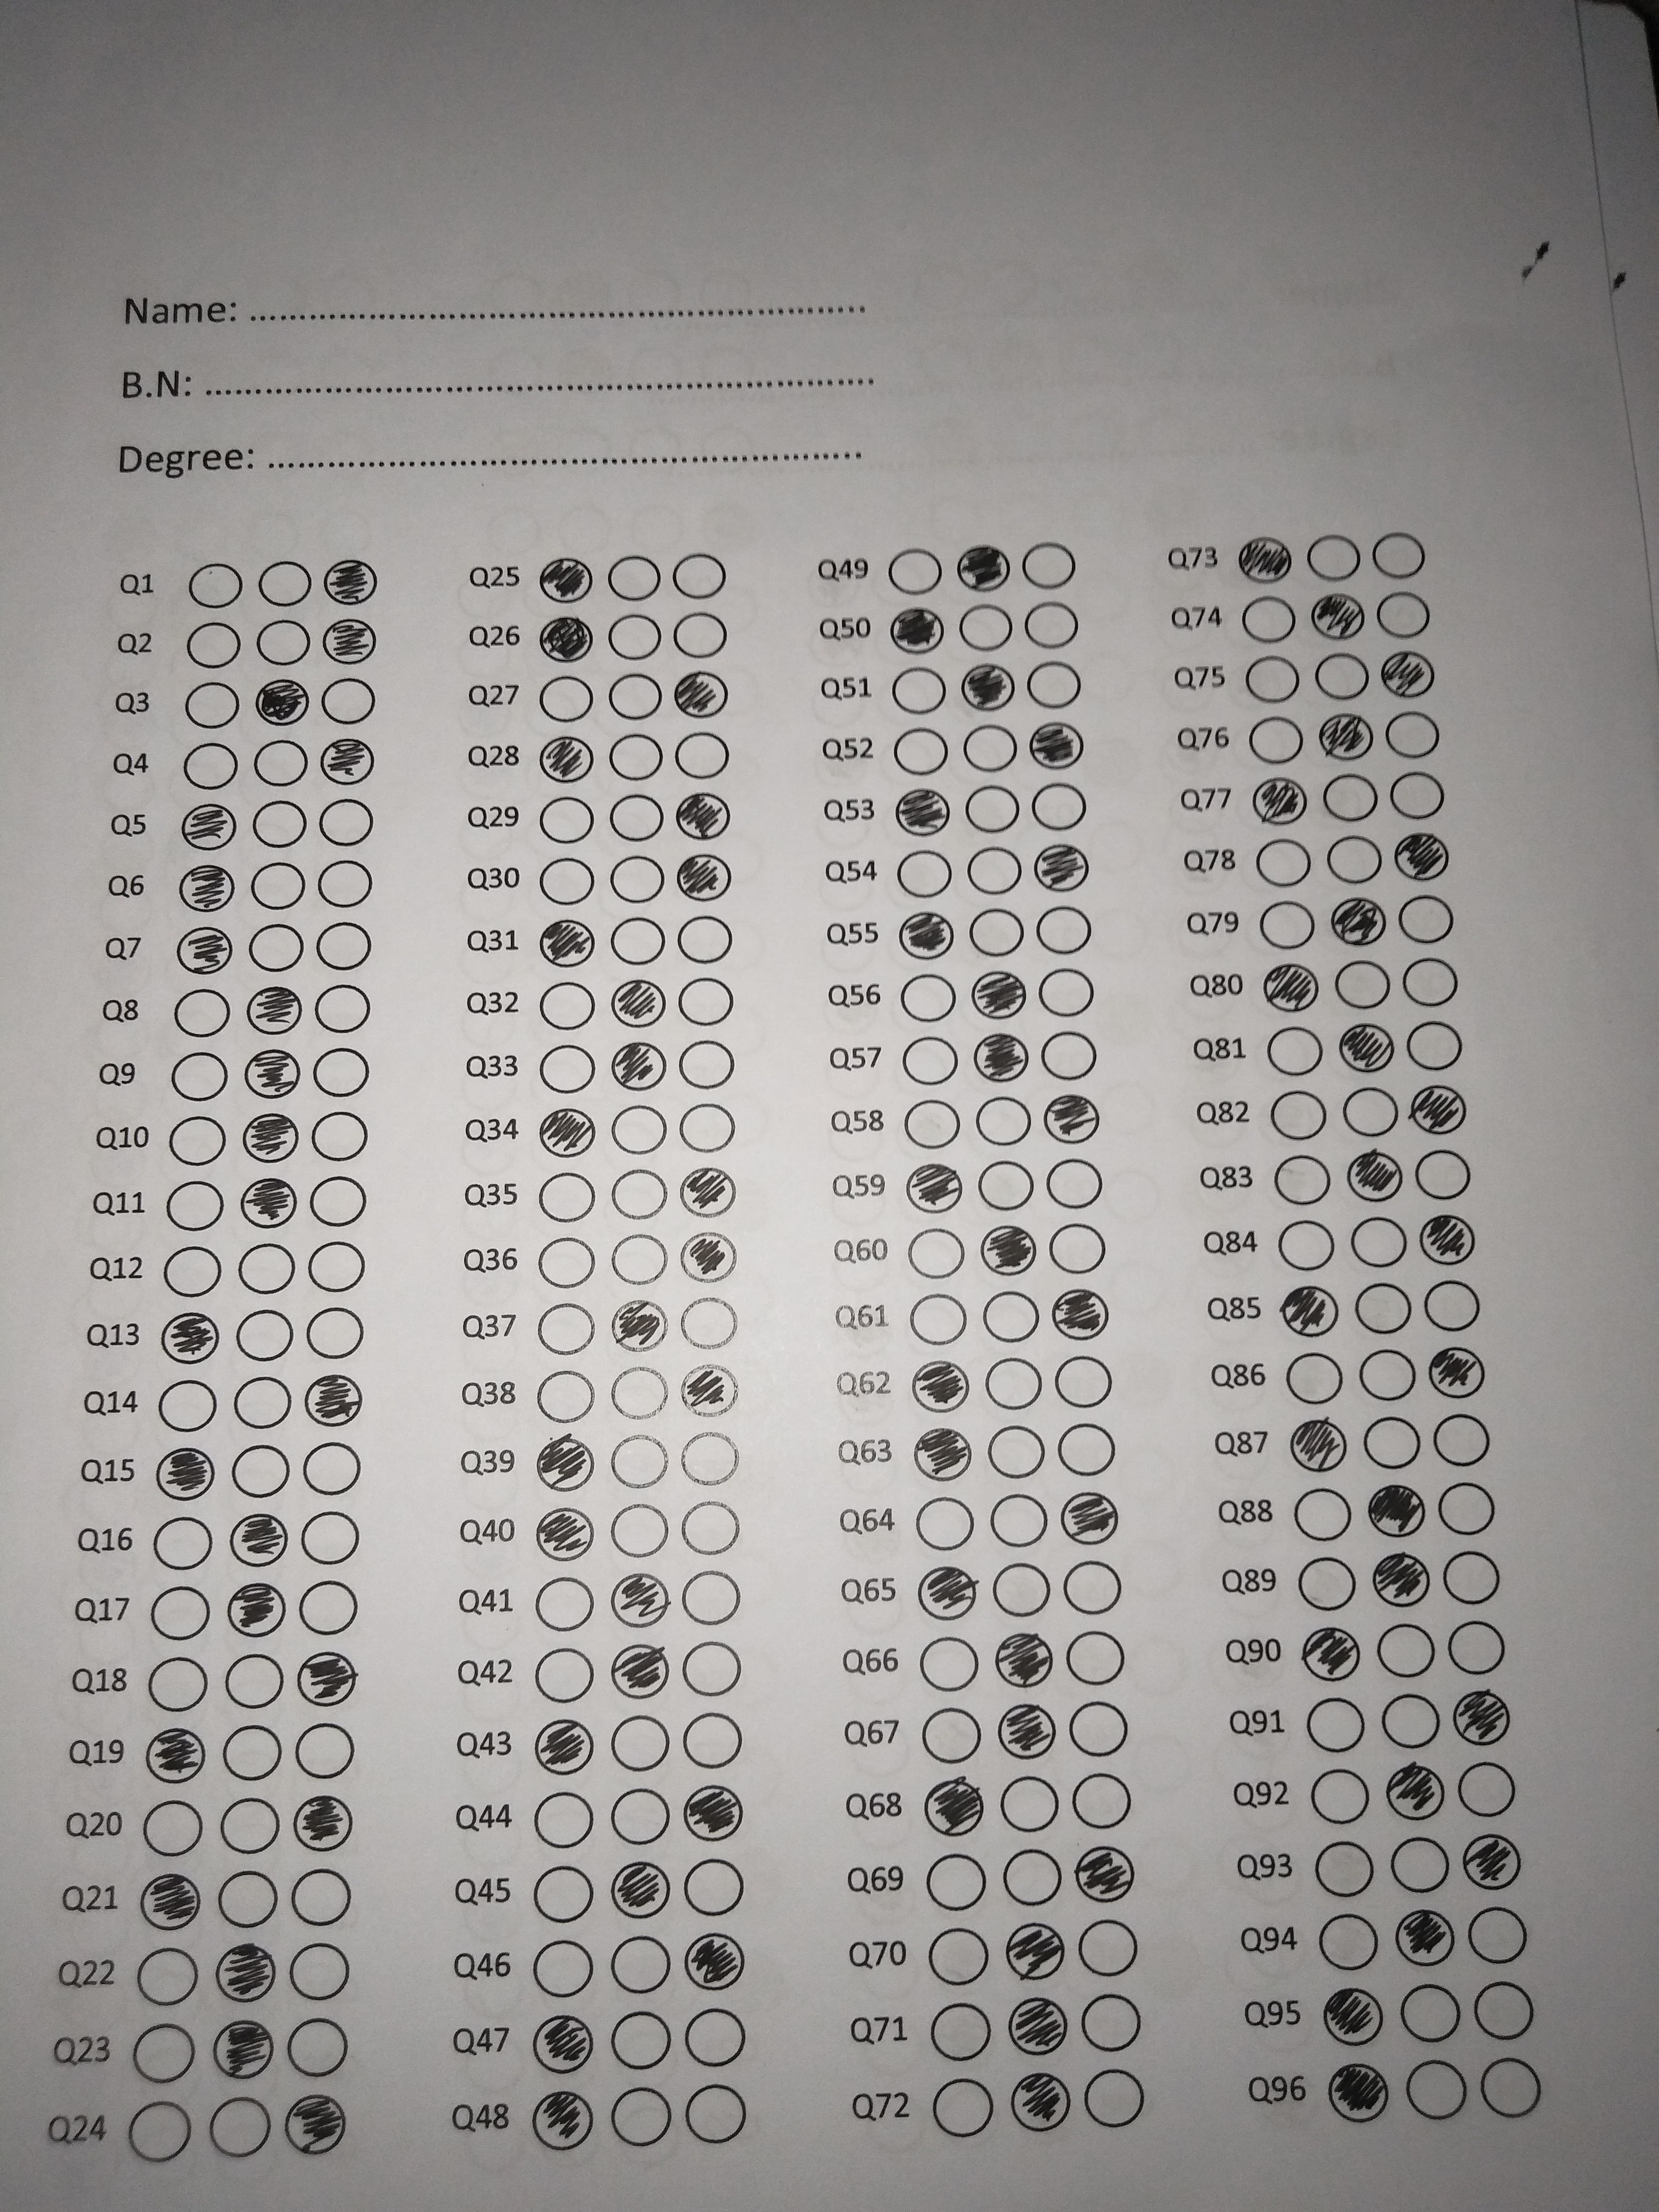not-c: (206, 2092, 279, 2174), (120, 2017, 200, 2088), (120, 2095, 200, 2165), (1478, 2050, 1554, 2121), (922, 2000, 995, 2071), (1080, 2066, 1154, 2137), (282, 2012, 354, 2083), (1401, 2054, 1473, 2125), (148, 1372, 227, 1437), (286, 1937, 357, 2006), (1312, 1911, 1385, 1979), (925, 2076, 997, 2144), (305, 1106, 378, 1172), (1392, 1982, 1467, 2047), (922, 1925, 992, 1993), (1467, 1977, 1537, 2045), (1445, 1613, 1513, 1683), (136, 1794, 209, 1858), (526, 1789, 599, 1853), (289, 1862, 357, 1930), (922, 1850, 990, 1918), (132, 1940, 199, 2010), (214, 1721, 286, 1785), (526, 1641, 598, 1705), (906, 1494, 979, 1557), (146, 1580, 214, 1646), (608, 1932, 676, 1998), (145, 1651, 214, 1716), (610, 2081, 674, 2151), (1077, 1993, 1147, 2057), (301, 1237, 376, 1296), (1267, 1216, 1342, 1275), (293, 1716, 359, 1782), (606, 1498, 673, 1564), (985, 1486, 1051, 1552), (917, 1632, 983, 1698), (293, 1576, 361, 1641), (213, 1869, 281, 1933), (676, 1496, 746, 1559), (1053, 1416, 1122, 1479), (993, 1771, 1063, 1834), (1295, 1552, 1364, 1615), (296, 1507, 368, 1568), (1305, 1838, 1377, 1898), (218, 1792, 284, 1857), (532, 1362, 596, 1428), (979, 1352, 1046, 1416), (1077, 1916, 1141, 1982), (1354, 1343, 1420, 1407), (530, 1937, 598, 2000), (605, 1710, 673, 1773), (986, 1559, 1054, 1622), (1060, 1559, 1127, 1622), (1377, 1691, 1445, 1754), (160, 1176, 230, 1237), (1464, 1904, 1535, 1963), (223, 1649, 288, 1714), (683, 2005, 748, 2069), (683, 2081, 749, 2144), (610, 2008, 673, 2074), (1072, 1770, 1138, 1832), (1000, 1844, 1063, 1911), (1453, 1757, 1520, 1820), (1042, 1219, 1110, 1280), (1302, 1693, 1370, 1754), (1439, 1548, 1507, 1609), (678, 1566, 748, 1625), (1016, 535, 1086, 594), (882, 723, 953, 780), (1279, 1350, 1351, 1407), (610, 1428, 673, 1493), (1361, 1409, 1424, 1474), (533, 1040, 599, 1101), (532, 972, 598, 1033), (1385, 1834, 1452, 1895), (678, 1858, 746, 1918), (894, 968, 962, 1028), (1063, 1627, 1131, 1686), (917, 1707, 985, 1766), (1431, 1411, 1499, 1470), (1344, 1212, 1412, 1271), (1251, 894, 1319, 953), (882, 660, 951, 718), (1420, 1278, 1490, 1336), (1236, 651, 1305, 709), (150, 1245, 223, 1299), (1234, 712, 1307, 766), (532, 1571, 594, 1634), (228, 1440, 293, 1501), (530, 1862, 594, 1923), (606, 1362, 671, 1423), (533, 1296, 598, 1357), (1033, 965, 1098, 1026), (234, 1306, 300, 1366), (300, 1439, 366, 1498), (896, 1097, 962, 1157), (1291, 1487, 1358, 1547), (1269, 1150, 1335, 1209), (167, 982, 235, 1040), (305, 1176, 373, 1233), (610, 1785, 673, 1846), (681, 1709, 742, 1771), (958, 714, 1021, 775), (1310, 1764, 1371, 1827), (1352, 1277, 1413, 1339), (681, 1639, 746, 1698), (882, 540, 946, 599), (906, 1291, 971, 1350), (979, 1287, 1044, 1346), (981, 1423, 1047, 1480), (532, 1233, 599, 1289), (1434, 1482, 1502, 1538), (1413, 1148, 1481, 1204), (606, 664, 667, 725), (1068, 1698, 1129, 1759), (1375, 1620, 1438, 1679), (181, 557, 246, 615), (166, 1111, 230, 1169), (681, 1428, 739, 1493), (606, 1103, 671, 1160), (1317, 768, 1382, 826), (1037, 1031, 1103, 1087), (680, 1292, 739, 1353), (537, 1165, 598, 1224), (674, 909, 735, 968), (1026, 777, 1087, 836), (974, 1157, 1035, 1216), (235, 1372, 293, 1435), (532, 671, 594, 728), (1023, 596, 1086, 653), (669, 726, 734, 782), (167, 1049, 234, 1103), (601, 914, 669, 967), (249, 920, 308, 979), (307, 1306, 368, 1364), (153, 1514, 214, 1571), (606, 787, 664, 848), (955, 599, 1016, 657), (1033, 902, 1094, 960), (906, 1224, 967, 1282), (1368, 524, 1429, 582), (310, 1045, 373, 1101), (1053, 1353, 1115, 1409), (1385, 766, 1448, 822), (232, 1240, 296, 1294), (606, 1230, 671, 1284), (899, 1035, 964, 1089), (176, 740, 242, 792), (957, 784, 1023, 836), (253, 552, 312, 610), (1044, 1155, 1103, 1212), (1324, 831, 1384, 888), (1344, 1082, 1405, 1137), (321, 676, 383, 730), (315, 920, 378, 974), (606, 1165, 669, 1219), (1267, 1089, 1330, 1143), (533, 857, 598, 909), (1382, 705, 1446, 758), (673, 606, 730, 664), (673, 545, 730, 603), (974, 1090, 1032, 1148), (315, 857, 375, 913), (314, 981, 373, 1036), (676, 1101, 735, 1157), (605, 547, 660, 606), (1312, 646, 1371, 702), (1303, 528, 1363, 583), (251, 615, 312, 669), (247, 862, 308, 916), (964, 843, 1025, 897), (1405, 1019, 1466, 1073), (181, 681, 246, 732), (251, 798, 308, 853), (676, 972, 734, 1028), (676, 1040, 735, 1094), (967, 904, 1026, 958), (894, 846, 955, 899), (1396, 892, 1457, 944), (1253, 834, 1314, 887), (605, 855, 667, 906), (606, 726, 662, 782), (533, 794, 592, 846), (1239, 592, 1298, 644), (181, 620, 242, 671), (1335, 958, 1392, 1010), (1403, 956, 1460, 1008), (315, 798, 375, 848), (605, 611, 664, 662), (1373, 589, 1432, 639), (1267, 1026, 1324, 1076), (1028, 660, 1087, 707), (254, 737, 310, 786)
taken-c: (528, 2088, 594, 2153), (606, 1857, 674, 1919), (211, 2017, 275, 2081), (282, 2092, 347, 2156), (289, 1792, 354, 1855), (214, 1940, 279, 2003), (1323, 1986, 1385, 2050), (924, 1777, 986, 1839), (1007, 1994, 1070, 2057), (1009, 2071, 1072, 2134), (1330, 2060, 1392, 2123), (1460, 1829, 1523, 1892), (138, 1871, 202, 1932), (681, 1932, 746, 1993), (228, 1508, 291, 1569), (146, 1724, 207, 1787), (533, 2015, 596, 2076), (997, 1700, 1058, 1763), (1394, 1907, 1457, 1968), (225, 1580, 289, 1639), (530, 1716, 594, 1775), (1060, 1487, 1121, 1548), (1385, 1763, 1446, 1824), (1371, 1548, 1432, 1609), (296, 1648, 359, 1707), (683, 1784, 746, 1843), (1073, 1844, 1136, 1904), (1006, 1919, 1065, 1982), (1452, 1688, 1513, 1747), (1303, 1625, 1364, 1684), (535, 1505, 594, 1564), (918, 1564, 978, 1623), (995, 1630, 1054, 1689), (303, 1371, 364, 1428), (610, 1571, 671, 1629), (535, 1435, 596, 1493), (911, 1425, 972, 1482), (1366, 1482, 1427, 1540), (612, 1642, 671, 1700), (612, 1296, 669, 1355), (1290, 1418, 1349, 1475), (1281, 1282, 1340, 1339), (155, 1447, 216, 1503), (1040, 1090, 1101, 1146), (1051, 1285, 1112, 1341), (1417, 1212, 1478, 1268), (162, 1310, 221, 1366), (680, 1362, 739, 1418), (892, 784, 951, 840), (1338, 1019, 1398, 1075), (903, 1162, 964, 1216), (1344, 1151, 1406, 1204), (680, 1163, 737, 1219), (1429, 1343, 1486, 1399), (610, 1038, 669, 1092), (978, 1223, 1037, 1277), (911, 1359, 971, 1413), (885, 603, 946, 655), (246, 982, 303, 1036), (242, 1109, 300, 1163), (240, 1176, 298, 1230), (610, 975, 667, 1029), (1028, 719, 1086, 773), (178, 862, 237, 914), (242, 1047, 301, 1099), (958, 662, 1018, 714), (1410, 1083, 1469, 1136), (1262, 961, 1321, 1014), (173, 927, 234, 977), (681, 1230, 737, 1284), (540, 1106, 596, 1160), (676, 789, 732, 843), (179, 799, 237, 852), (676, 852, 734, 904), (537, 732, 594, 784), (537, 613, 594, 665), (1033, 841, 1091, 894), (897, 907, 955, 960), (1317, 709, 1375, 761), (321, 617, 380, 667), (319, 735, 378, 786), (537, 920, 596, 970), (537, 556, 596, 606), (971, 1033, 1030, 1083), (1251, 777, 1310, 827), (324, 556, 380, 608), (674, 669, 730, 721), (1331, 895, 1387, 948), (1237, 533, 1293, 585), (971, 970, 1028, 1021), (1394, 831, 1452, 881), (957, 542, 1011, 594), (1309, 592, 1366, 641), (254, 678, 310, 726), (1380, 650, 1436, 698)
